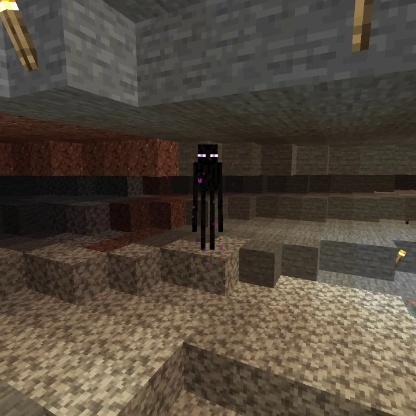enderman: (190, 141, 226, 252)
